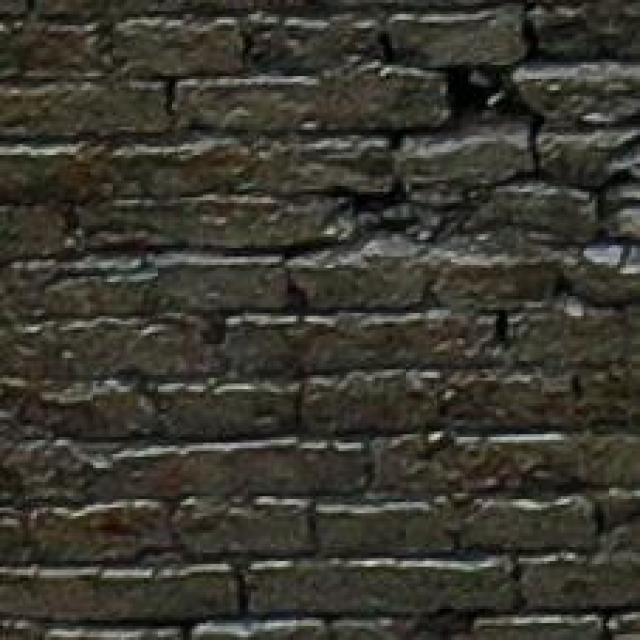Crack: (196, 0, 640, 394)
